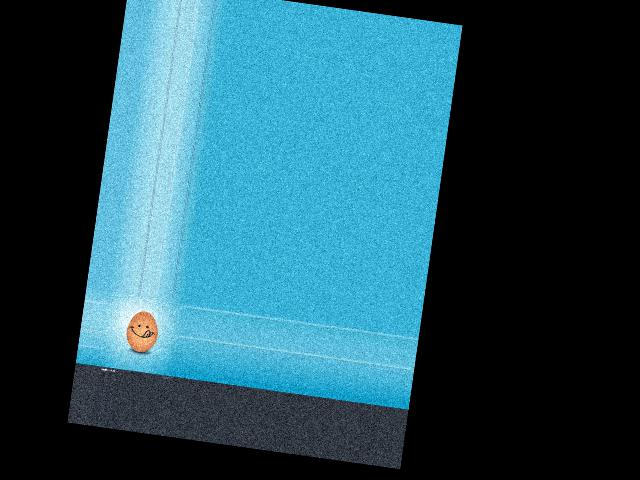egg: (124, 309, 161, 354)
